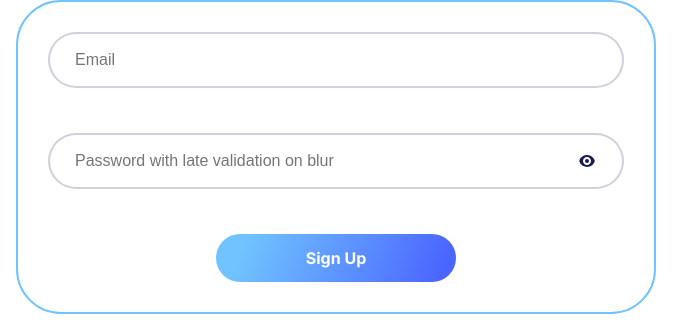
it: AuthForm component › shows error messages when validation fails
The image size is (673, 331).
Click the button "Sign Up".
click(336, 258)  # box [216,234,456,282]
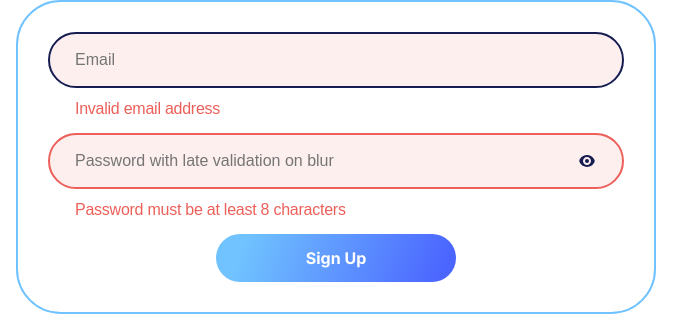
Now the text "Invalid email address" is shown, box [75,100,220,117]
Now the text "Password must be at least 8 characters" is shown, box [75,201,346,218]
